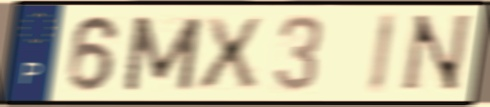3: (271, 11, 328, 96)
6: (64, 12, 123, 94)
I: (365, 11, 400, 97)
M: (119, 13, 206, 93)
N: (395, 12, 476, 96)
X: (194, 14, 266, 92)
